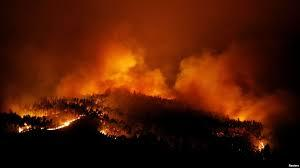fire: (19, 31, 275, 126)
